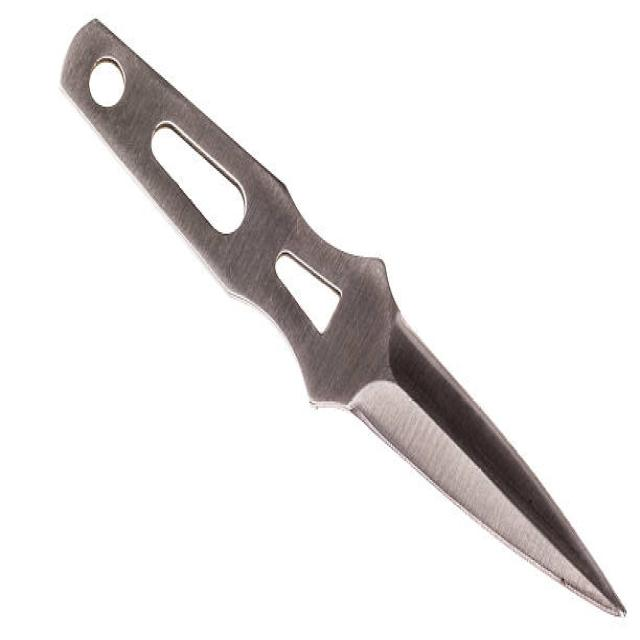knife: (55, 17, 634, 634)
